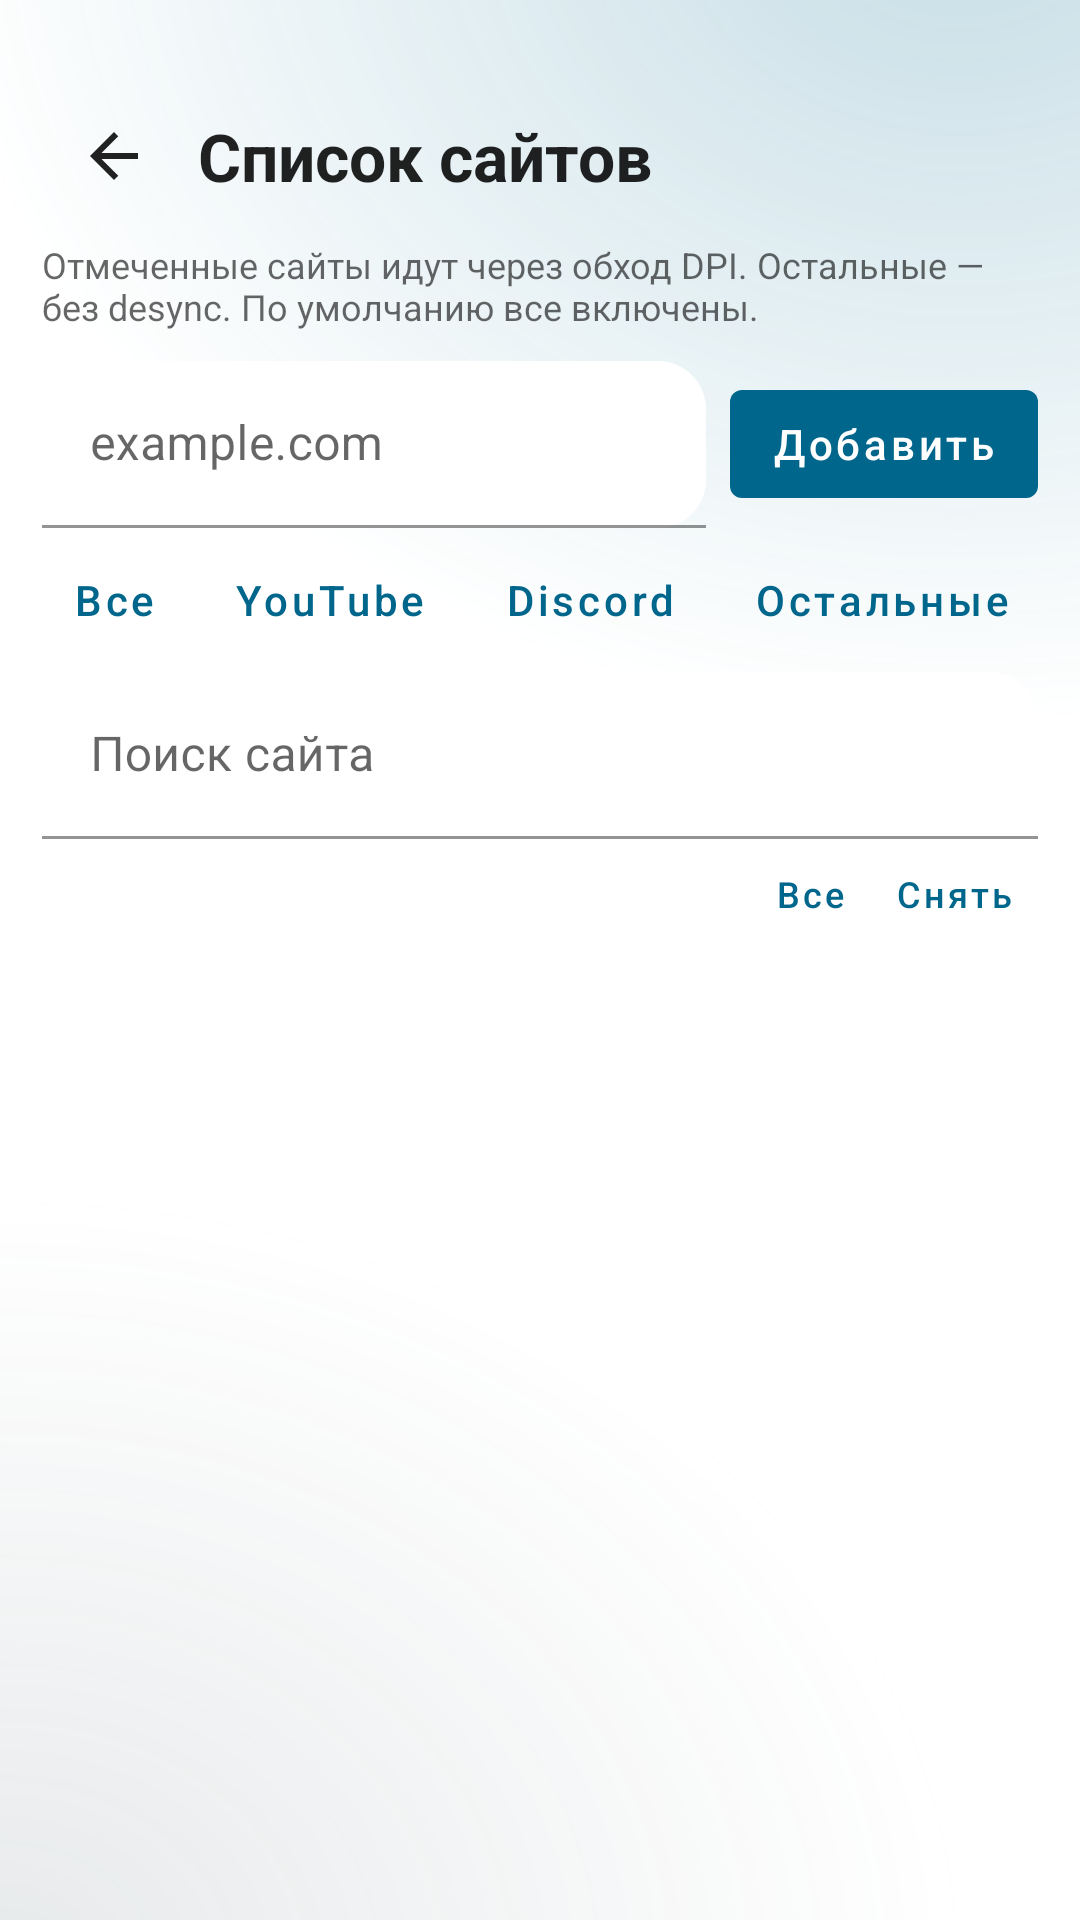

Icon click points for this 1080 x 1920 phone screenshot, format [x,y]:
Назад: [114,156]
